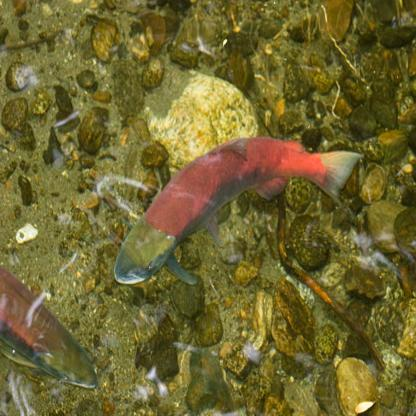sockeye: (114, 132, 366, 284), (0, 263, 91, 386)
